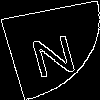N: (25, 24, 80, 79)
